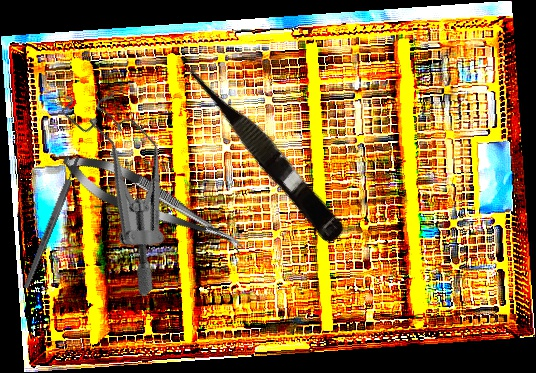Micro Scissor: (173, 46, 352, 247), (55, 142, 253, 265)
Scalpel Handle: (21, 155, 83, 290)
Speculum: (5, 70, 231, 300)
